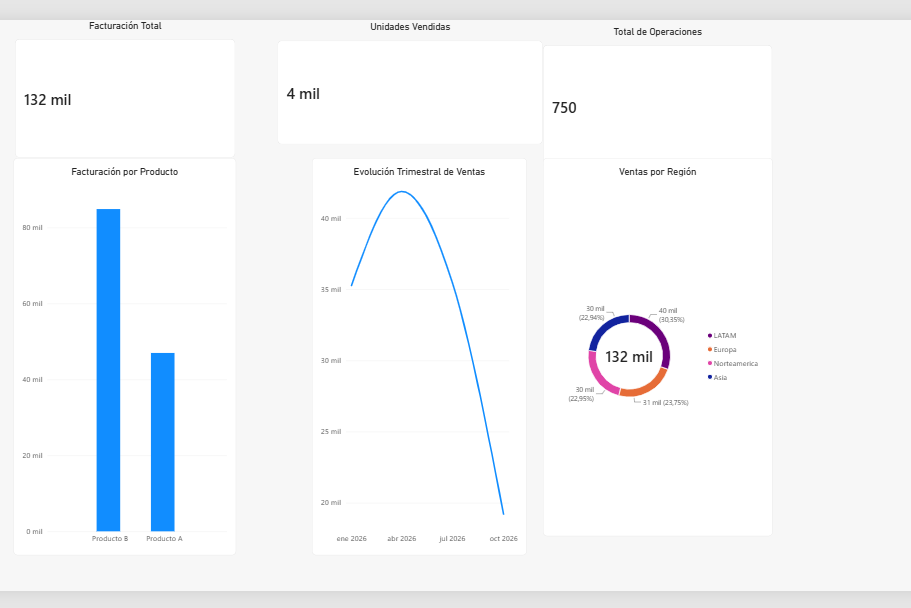

Layout of this report page (visuals, bound fields, positions):
{"tool":"powerbi","page":{"name":"Página 1","canvas":[1920,1080],"ordinal":0},"visuals":[{"type":"textbox","box":[10,0,280,280],"z":0},{"type":"textbox","box":[10,290,280,280],"z":1},{"type":"textbox","box":[10,580,280,280],"z":2},{"type":"textbox","box":[10,870,280,210],"z":3},{"type":"textbox","box":[300,0,280,280],"z":4},{"type":"textbox","box":[300,290,280,280],"z":5},{"type":"textbox","box":[300,580,280,280],"z":6},{"type":"textbox","box":[300,870,280,210],"z":7},{"type":"textbox","box":[590,0,280,280],"z":8},{"type":"textbox","box":[590,290,280,280],"z":9},{"type":"cardVisual","title":"Facturación Total","fields":{"Data":["Sum(datos_ecommerce_limpio.Precio Total)"]},"box":[85,0,416.7,260.8],"z":10},{"type":"cardVisual","title":"Unidades Vendidas","fields":{"Data":["Sum(datos_ecommerce_limpio.Unidades Vendidas)"]},"box":[581.1,2.8,501.7,232.4],"z":11},{"type":"cardVisual","title":"Total de Operaciones","fields":{"Data":["CountNonNull(datos_ecommerce_limpio.ID)"]},"box":[1082.8,11.3,433.7,269.3],"z":12},{"type":"columnChart","title":"Facturación por Producto","fields":{"Category":["datos_ecommerce_limpio.Producto"],"Y":["Sum(datos_ecommerce_limpio.Precio Total)"]},"box":[83.4,261.2,420.8,750.8],"z":13},{"type":"lineChart","title":"Evolución Trimestral de Ventas","fields":{"Category":["datos_ecommerce_limpio.Fecha_Real.Variation.Jerarquía de fechas.Año","datos_ecommerce_limpio.Fecha_Real.Variation.Jerarquía de fechas.Trimestre","datos_ecommerce_limpio.Fecha_Real.Variation.Jerarquía de fechas.Mes","datos_ecommerce_limpio.Fecha_Real.Variation.Jerarquía de fechas.Día"],"Y":["Sum(datos_ecommerce_limpio.Precio Total)"]},"box":[645.6,261.2,406.3,750.8],"z":14},{"type":"donutChart","title":"Ventas por Región","fields":{"Category":["datos_ecommerce_limpio.Región"],"Y":["Sum(datos_ecommerce_limpio.Precio Total)"]},"box":[1082.8,260.8,433.7,714.3],"z":15}]}

Visuals, with their boxes on the page's 1920x1080 design canvas (x1, y1, x2, y2). These are canvas units, not pixel positions in the 911x608 screenshot, which may show the page scaled, cropped or inside an application window:
textbox: detection(10, 0, 290, 280)
textbox: detection(10, 290, 290, 570)
textbox: detection(10, 580, 290, 860)
textbox: detection(10, 870, 290, 1080)
textbox: detection(300, 0, 580, 280)
textbox: detection(300, 290, 580, 570)
textbox: detection(300, 580, 580, 860)
textbox: detection(300, 870, 580, 1080)
textbox: detection(590, 0, 870, 280)
textbox: detection(590, 290, 870, 570)
"Facturación Total" cardVisual: detection(85, 0, 502, 261)
"Unidades Vendidas" cardVisual: detection(581, 3, 1083, 235)
"Total de Operaciones" cardVisual: detection(1083, 11, 1516, 281)
"Facturación por Producto" columnChart: detection(83, 261, 504, 1012)
"Evolución Trimestral de Ventas" lineChart: detection(646, 261, 1052, 1012)
"Ventas por Región" donutChart: detection(1083, 261, 1516, 975)
